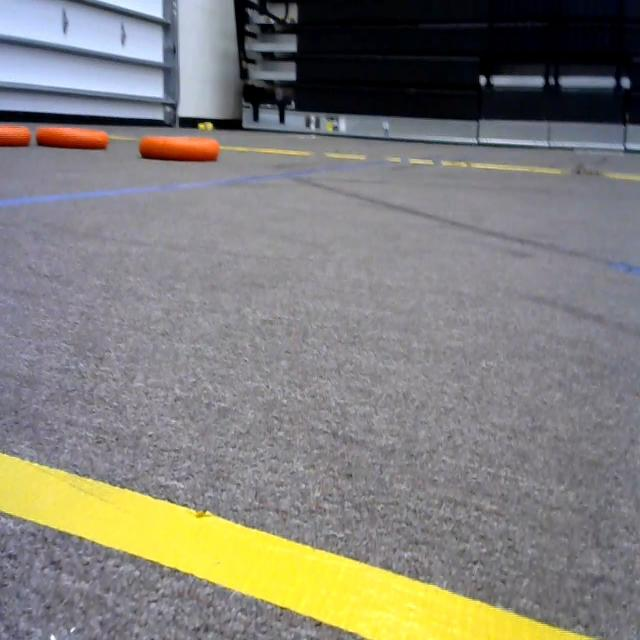note: (136, 126, 224, 166), (34, 116, 110, 158), (0, 117, 36, 154)
